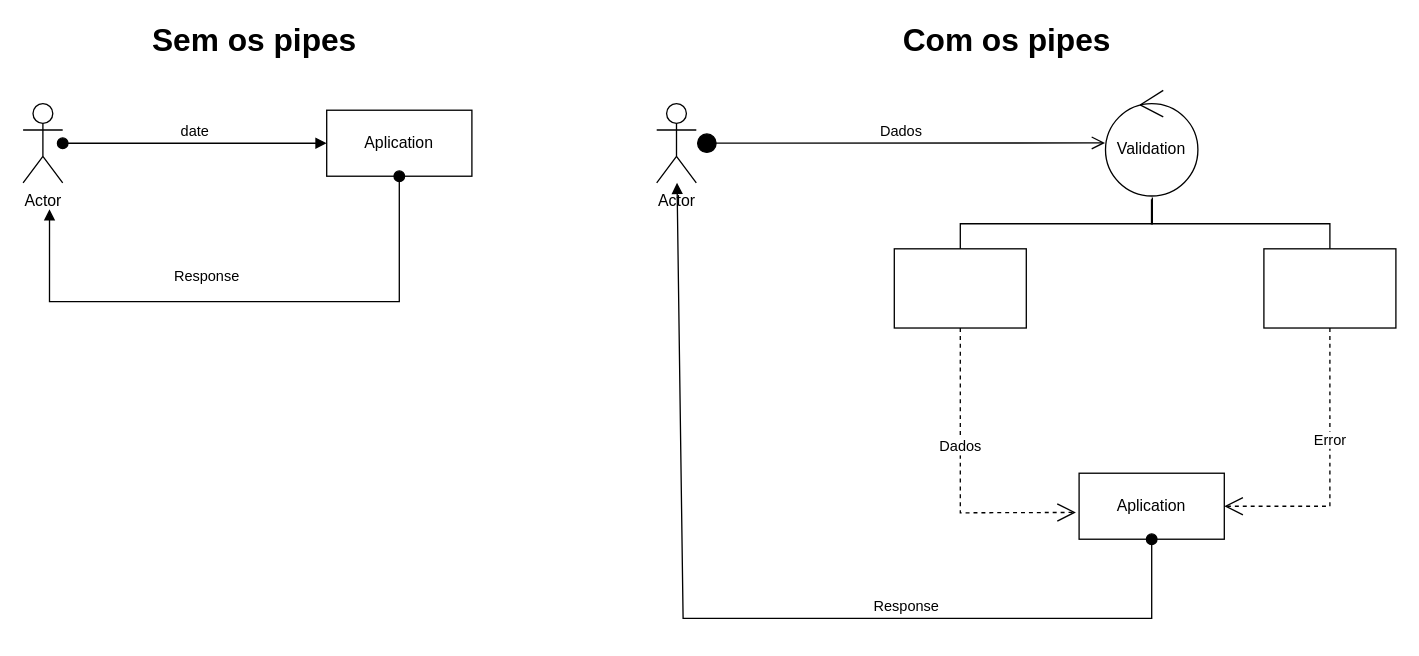
The diagram is 1419 pixels wide and 656 high, and some of its shapes have lost their labels. Here are the shapes that lost their labels. From the top down, the centre of each, then its label:
At (959,288): "valid".
At (1329,288): "invalid".
